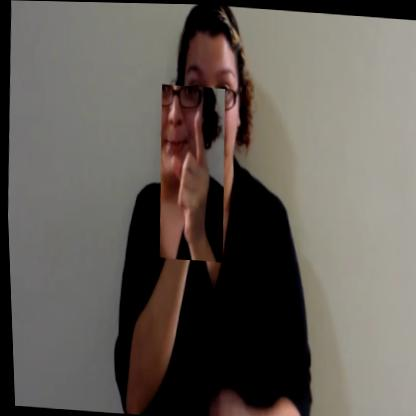NiceToMeetYou: (152, 83, 229, 261)
